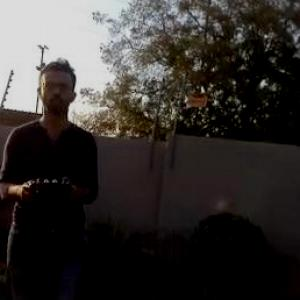follow: (0, 50, 101, 299)
